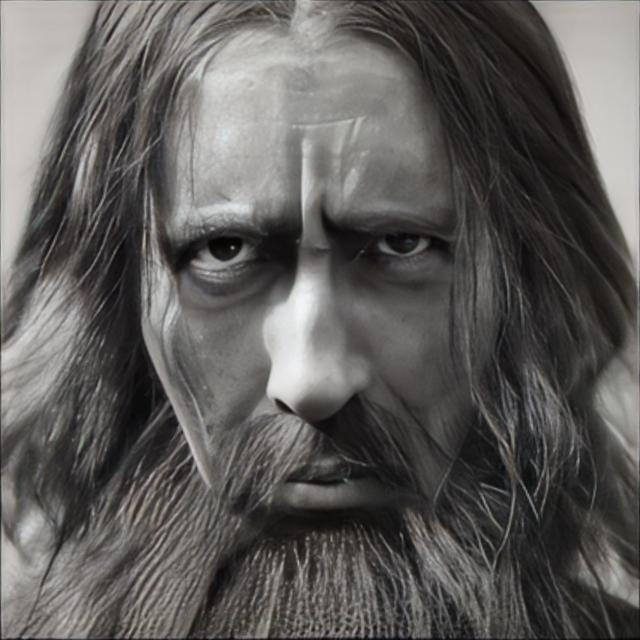anger: (132, 59, 502, 594)
